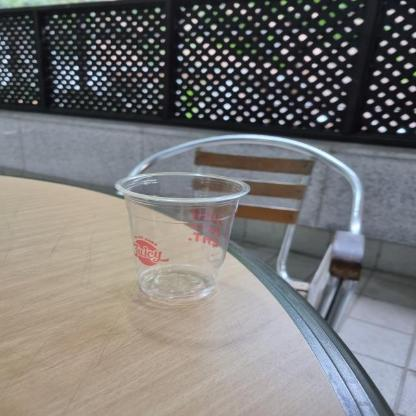Plastic Cup: (112, 168, 256, 308)
